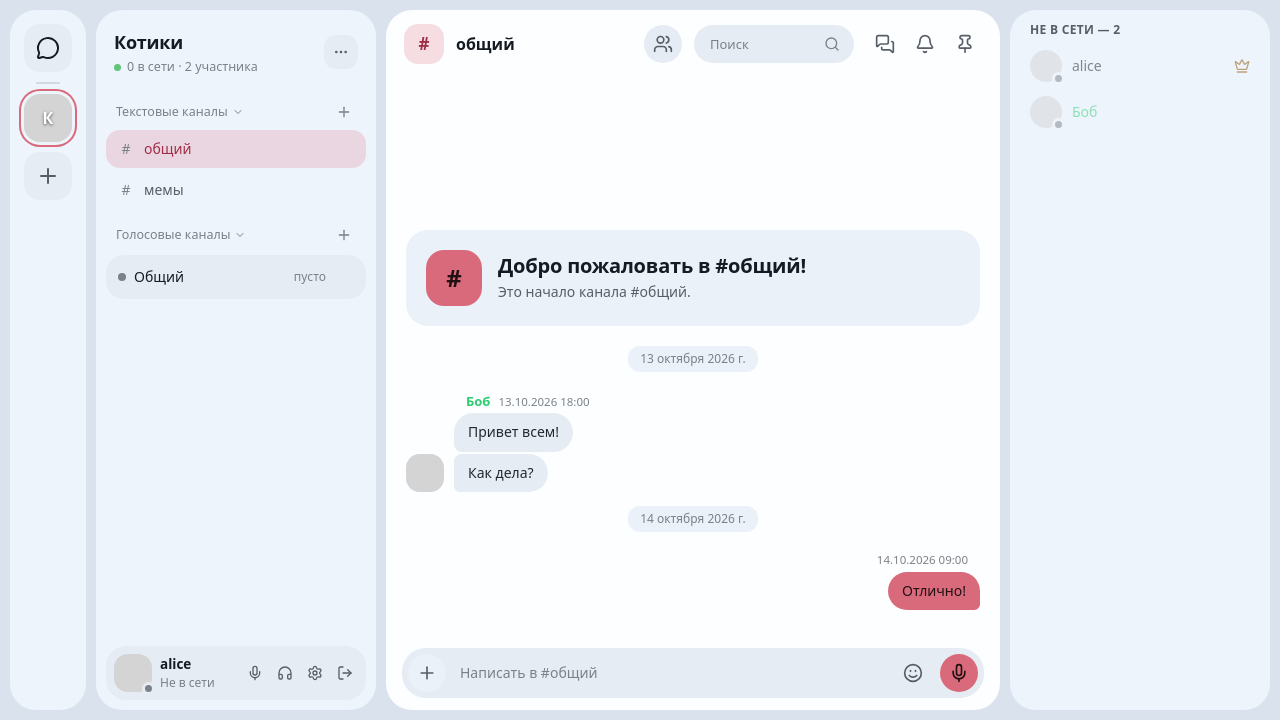
Test: moderating from a profile card › treats a timeout that has run out as over
Click the button with aria-label "Боб,".
click(1140, 112)  # box [1022,90,1258,134]
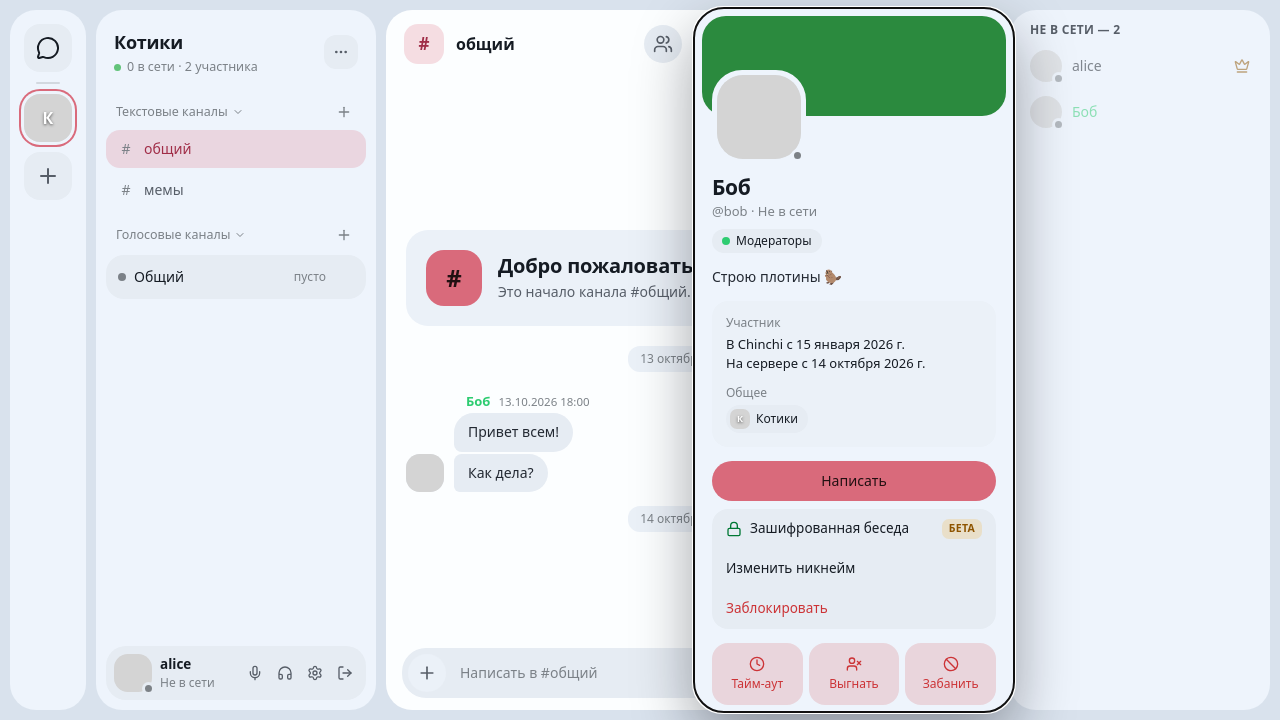
Result: the button "Тайм-аут" is shown at [712,643,803,705]
